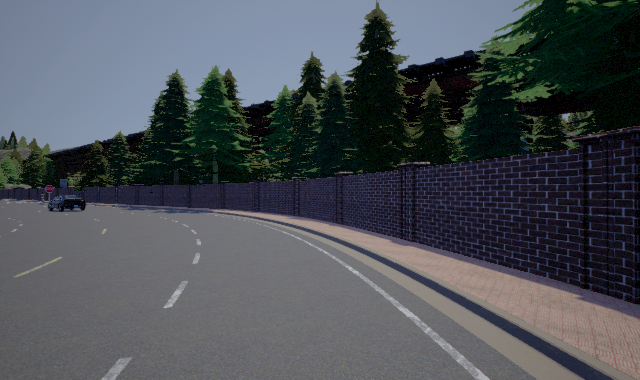traffic_sign: (45, 185, 55, 193)
vehicle: (48, 195, 86, 212)
